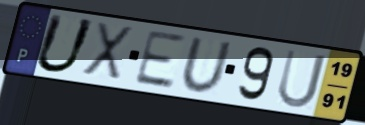9: (236, 46, 276, 102)
E: (130, 28, 187, 91)
U: (31, 11, 98, 75), (274, 47, 329, 111), (179, 36, 234, 96)
X: (79, 20, 135, 84)
